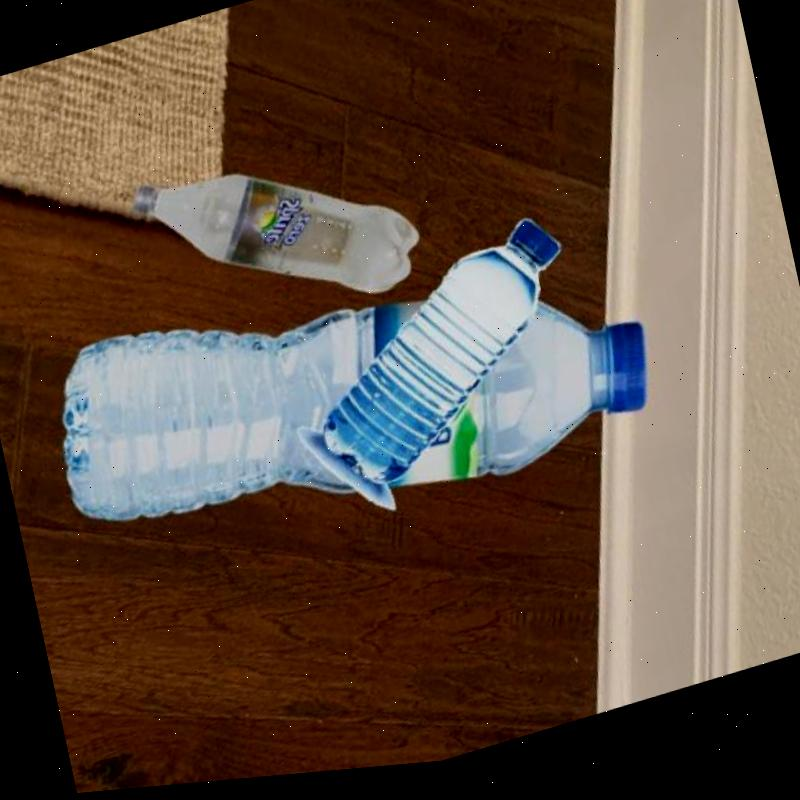botella: (38, 190, 666, 606), (290, 218, 598, 511), (127, 116, 429, 365)
